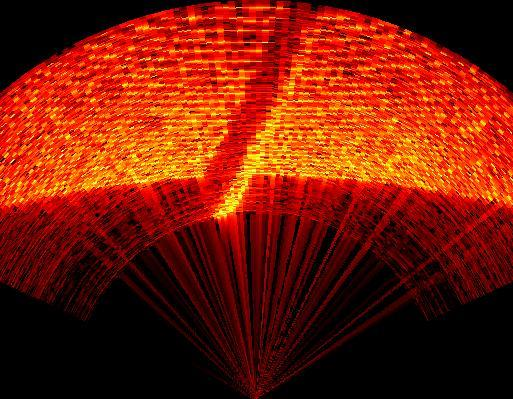pipe: (196, 5, 330, 223)
